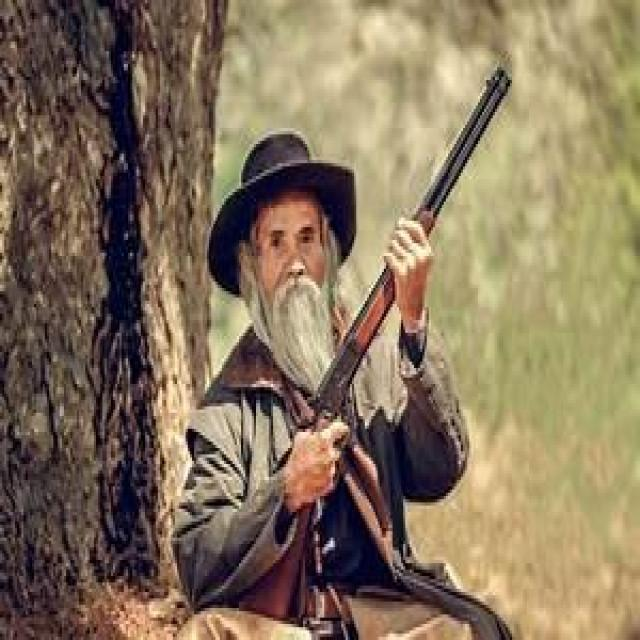Rifle: (230, 61, 524, 621)
